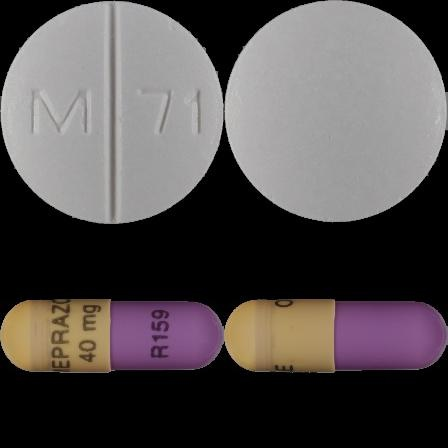0615-1593: (0, 0, 224, 224)
